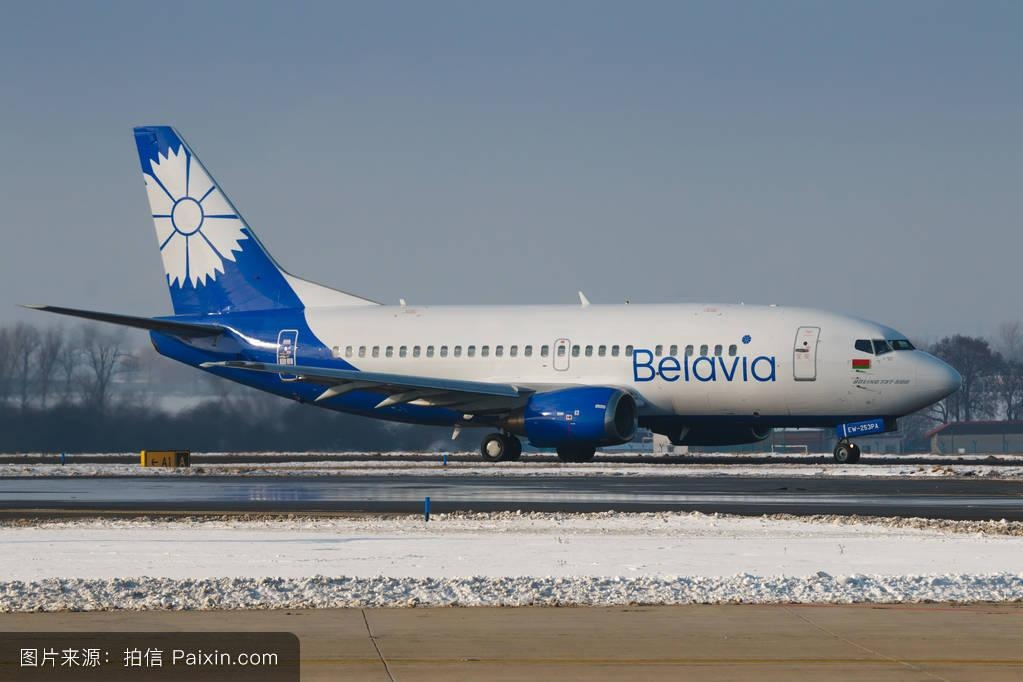airplane: (26, 114, 969, 457)
